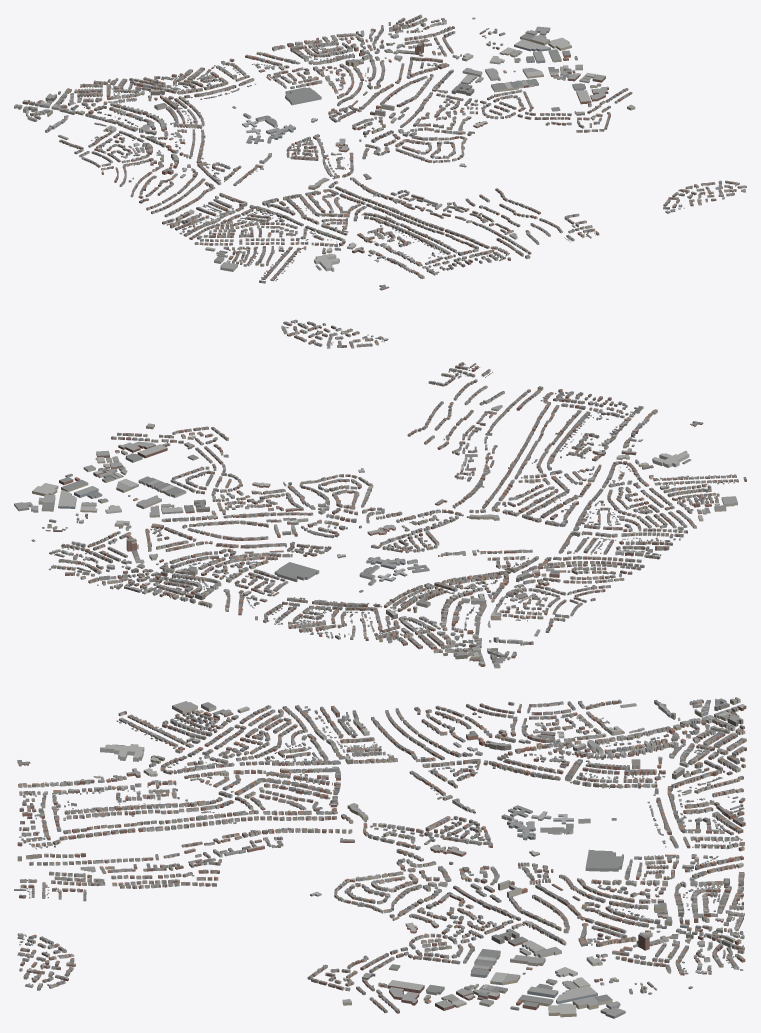
The model's file is buildings_b0_3_0.glb.
The picture shows the model from 3 angles, top to bottom: view 1: azimuth 30°, elevation 25°; view 2: azimuth 150°, elevation 25°; view 3: azimuth 270°, elevation 25°; orthographic projection. The views are drawn at different scales.
Visible parts, largest first — view 1: t12_03_buildings_b0, t12_01_buildings_b0, t14_03_buildings_b0, t14_02_buildings_b0, t12_02_buildings_b0, t13_00_buildings_b0, t15_02_buildings_b0, t13_03_buildings_b0, t15_03_buildings_b0, t13_01_buildings_b0, t13_02_buildings_b0, t12_00_buildings_b0 (+4 smaller); view 2: t14_03_buildings_b0, t12_01_buildings_b0, t12_03_buildings_b0, t14_02_buildings_b0, t12_02_buildings_b0, t15_02_buildings_b0, t13_03_buildings_b0, t15_03_buildings_b0, t13_00_buildings_b0, t13_01_buildings_b0, t13_02_buildings_b0, t12_00_buildings_b0 (+4 smaller); view 3: t12_03_buildings_b0, t12_01_buildings_b0, t14_03_buildings_b0, t12_02_buildings_b0, t13_00_buildings_b0, t14_02_buildings_b0, t15_02_buildings_b0, t13_03_buildings_b0, t13_01_buildings_b0, t15_03_buildings_b0, t13_02_buildings_b0, t12_00_buildings_b0 (+4 smaller).
Boxes of the visible parts, box(x1,y1,x2,y2) form: t12_03_buildings_b0: box(14, 78, 201, 157); t12_01_buildings_b0: box(162, 196, 337, 263); t14_03_buildings_b0: box(256, 28, 435, 104); t14_02_buildings_b0: box(330, 75, 498, 154); t12_02_buildings_b0: box(81, 129, 251, 214); t13_00_buildings_b0: box(342, 207, 530, 278); t15_02_buildings_b0: box(446, 49, 632, 119); t13_03_buildings_b0: box(135, 54, 321, 128); t15_03_buildings_b0: box(378, 14, 571, 72); t13_01_buildings_b0: box(287, 167, 461, 229); t13_02_buildings_b0: box(246, 111, 384, 173); t12_00_buildings_b0: box(220, 230, 389, 290); t14_03_buildings_b0: box(102, 524, 290, 611); t12_01_buildings_b0: box(535, 470, 726, 562); t12_03_buildings_b0: box(364, 582, 569, 668); t14_02_buildings_b0: box(178, 479, 375, 557); t12_02_buildings_b0: box(441, 545, 644, 616); t15_02_buildings_b0: box(59, 432, 238, 521); t13_03_buildings_b0: box(238, 562, 437, 639); t15_03_buildings_b0: box(14, 483, 167, 585); t13_00_buildings_b0: box(459, 386, 657, 470); t13_01_buildings_b0: box(429, 445, 589, 521); t13_02_buildings_b0: box(311, 507, 492, 579); t12_00_buildings_b0: box(596, 421, 746, 506); t12_03_buildings_b0: box(559, 697, 746, 781); t12_01_buildings_b0: box(198, 702, 382, 787); t14_03_buildings_b0: box(560, 860, 744, 944); t12_02_buildings_b0: box(380, 701, 564, 789); t13_00_buildings_b0: box(17, 775, 201, 865); t14_02_buildings_b0: box(380, 864, 563, 944); t15_02_buildings_b0: box(380, 936, 564, 1013); t13_03_buildings_b0: box(553, 774, 745, 871); t13_01_buildings_b0: box(199, 777, 382, 865); t15_03_buildings_b0: box(548, 933, 745, 1018); t13_02_buildings_b0: box(380, 788, 573, 868); t12_00_buildings_b0: box(17, 701, 203, 782).
Size of the model in its own units: 2052 by 79.36 by 2024.
